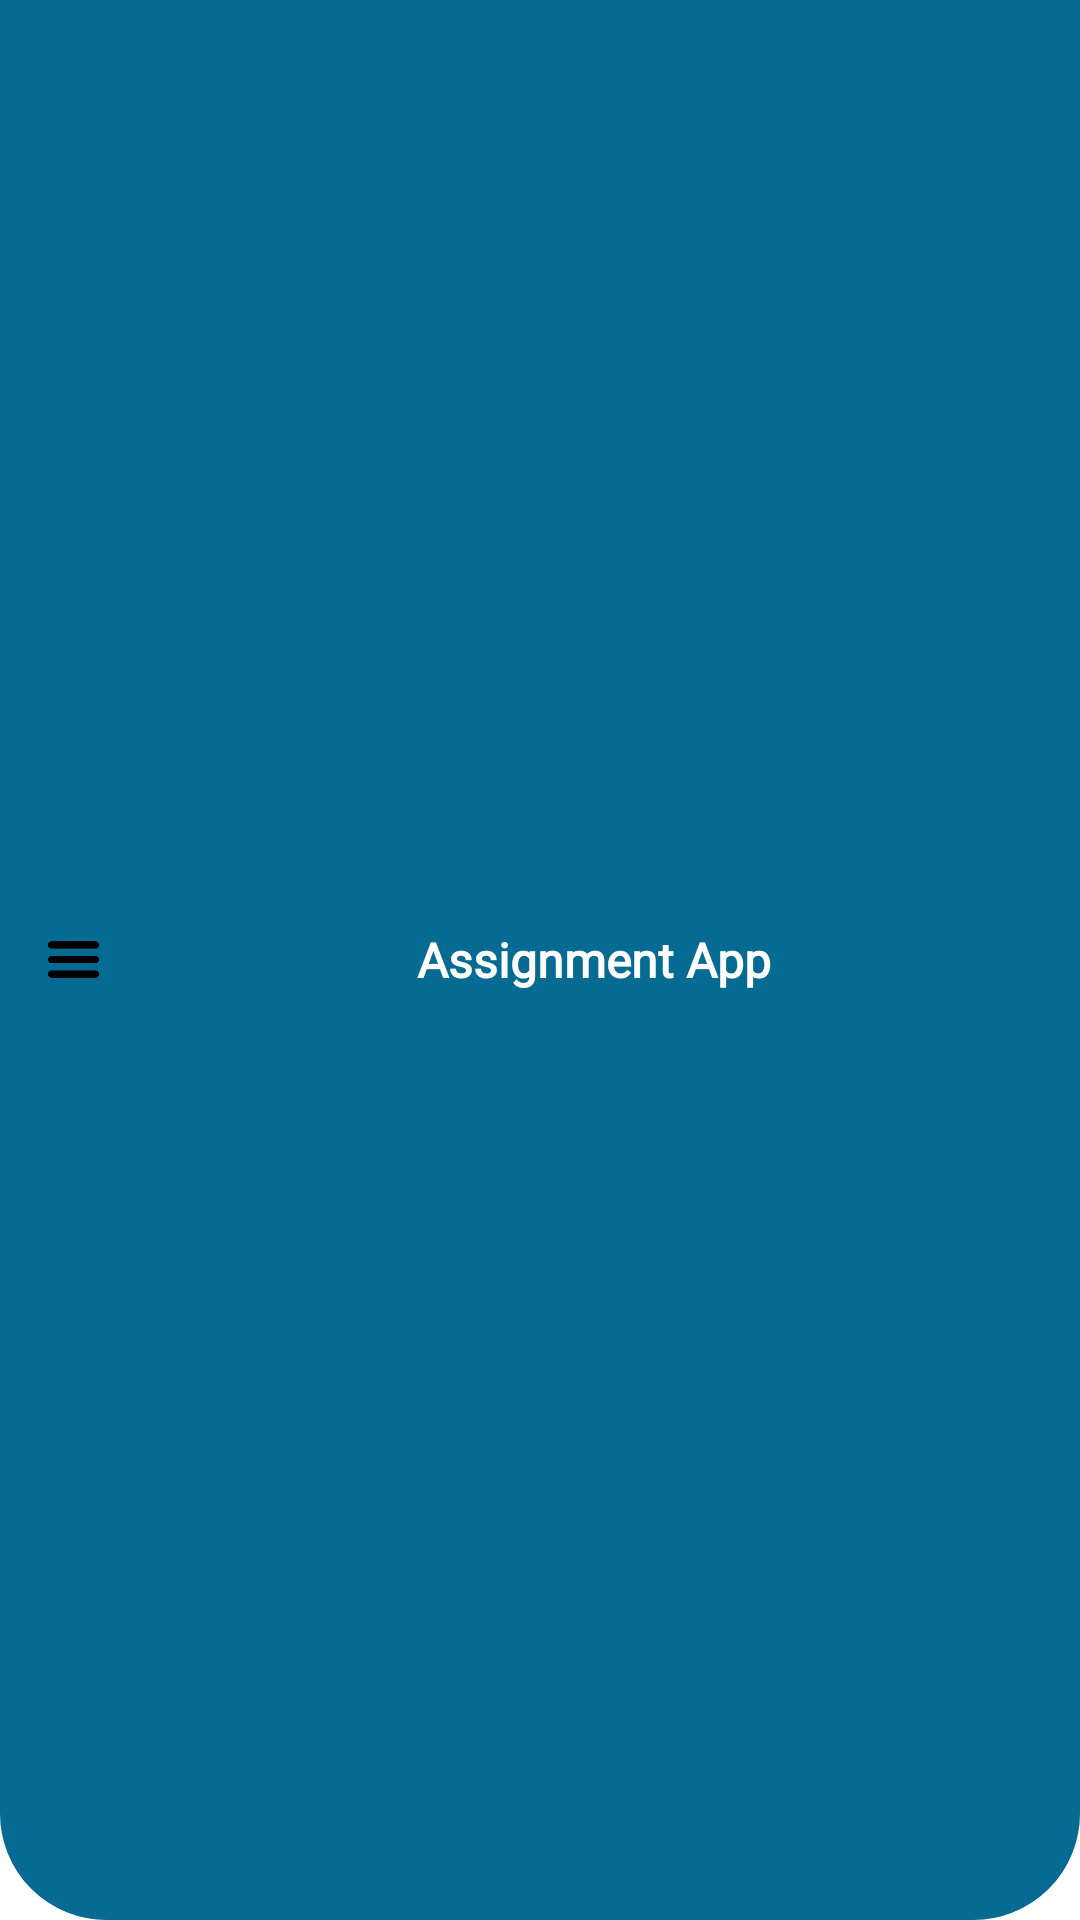

Icons on this 1080px x 1920px Android screen, each with the point to tap as (x,y):
nav: (73,959)
